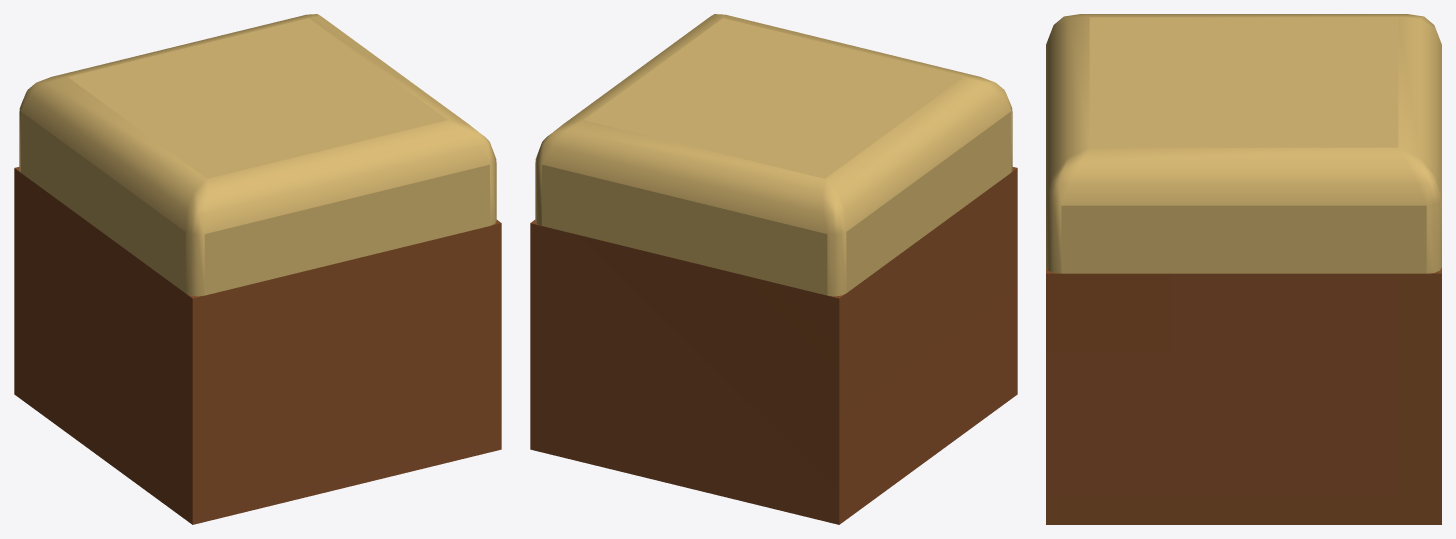
The model's file is Terrain__sand.glb.
The picture shows the model from 3 angles, left to right: view 1: azimuth 30°, elevation 25°; view 2: azimuth 150°, elevation 25°; view 3: azimuth 270°, elevation 25°; orthographic projection. The views are drawn at different scales.
Parts seen in each view (by area): view 1: sand_mesh; view 2: sand_mesh; view 3: sand_mesh.
Boxes of the visible parts, <box> form: sand_mesh: <box>14,14,501,524</box>; sand_mesh: <box>530,14,1017,524</box>; sand_mesh: <box>1046,14,1441,524</box>.
Bounding box in the file's own units: 0.5 × 0.5 × 0.5.
